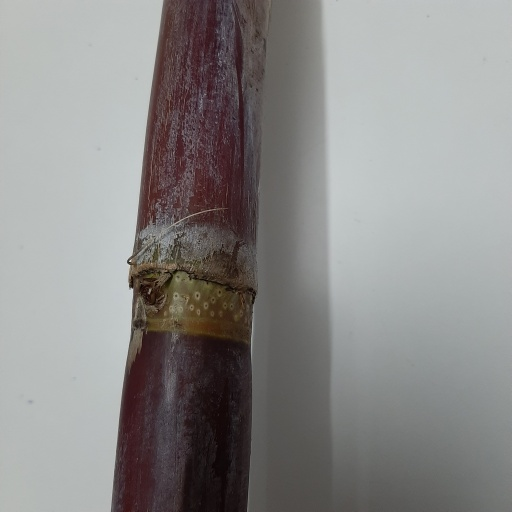Damage_Bud: (136, 279, 167, 310)
